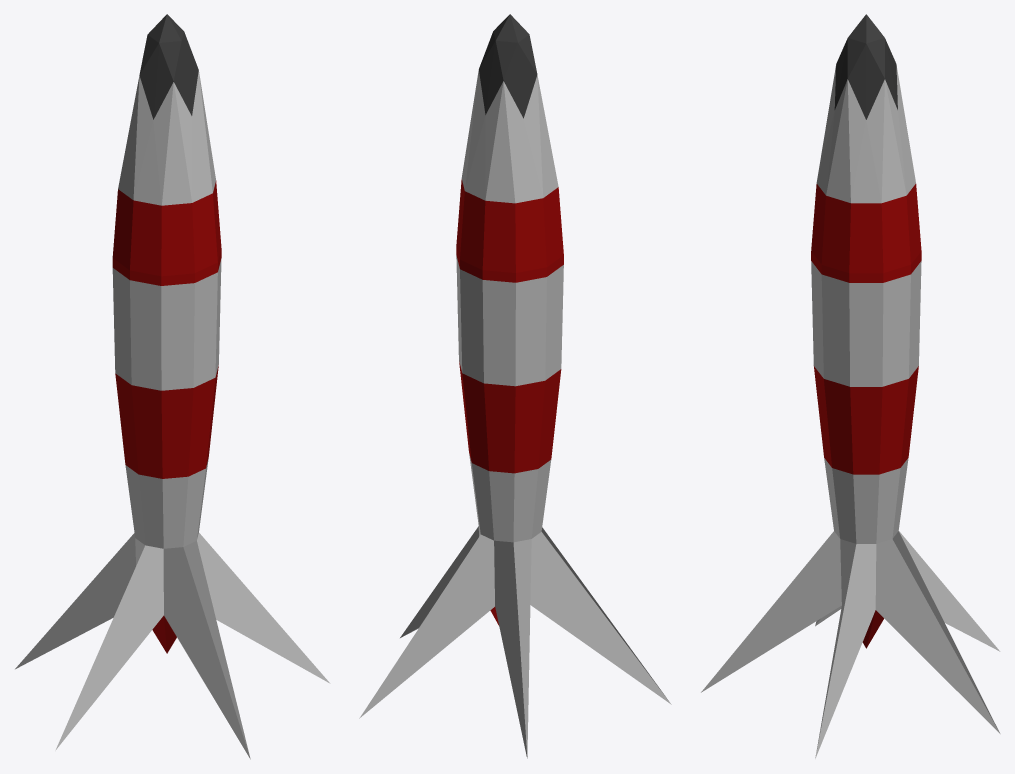
File: missile.obj
3 views of the same model, side by side, from view 1: azimuth 30°, elevation 25°; view 2: azimuth 150°, elevation 25°; view 3: azimuth 270°, elevation 25° (orthographic).
Parts seen in each view (by area): view 1: Icosphere; view 2: Icosphere; view 3: Icosphere.
Part boxes in pixels (x1=…): Icosphere: x1=15, y1=14, x2=330, y2=759; Icosphere: x1=359, y1=14, x2=671, y2=758; Icosphere: x1=701, y1=14, x2=1000, y2=758.
Size of the model in its own units: 2.01 by 4.77 by 1.91.
